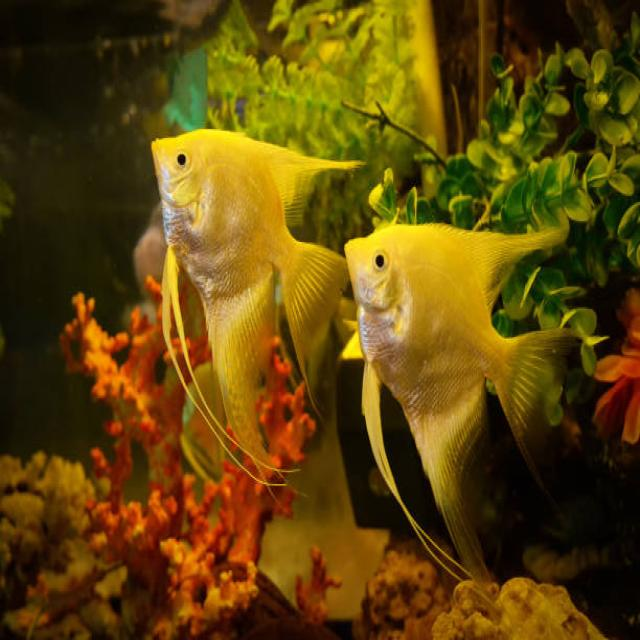AngelFish: (340, 228, 580, 596), (148, 122, 362, 492)
